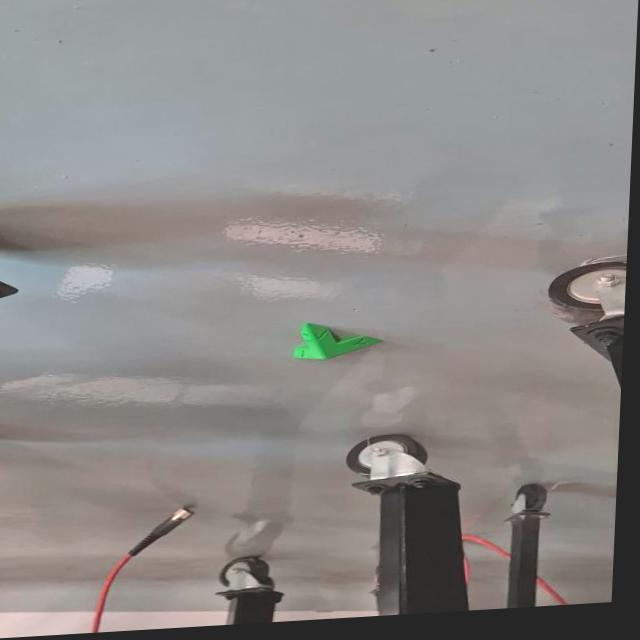eje: (291, 317, 386, 363)
